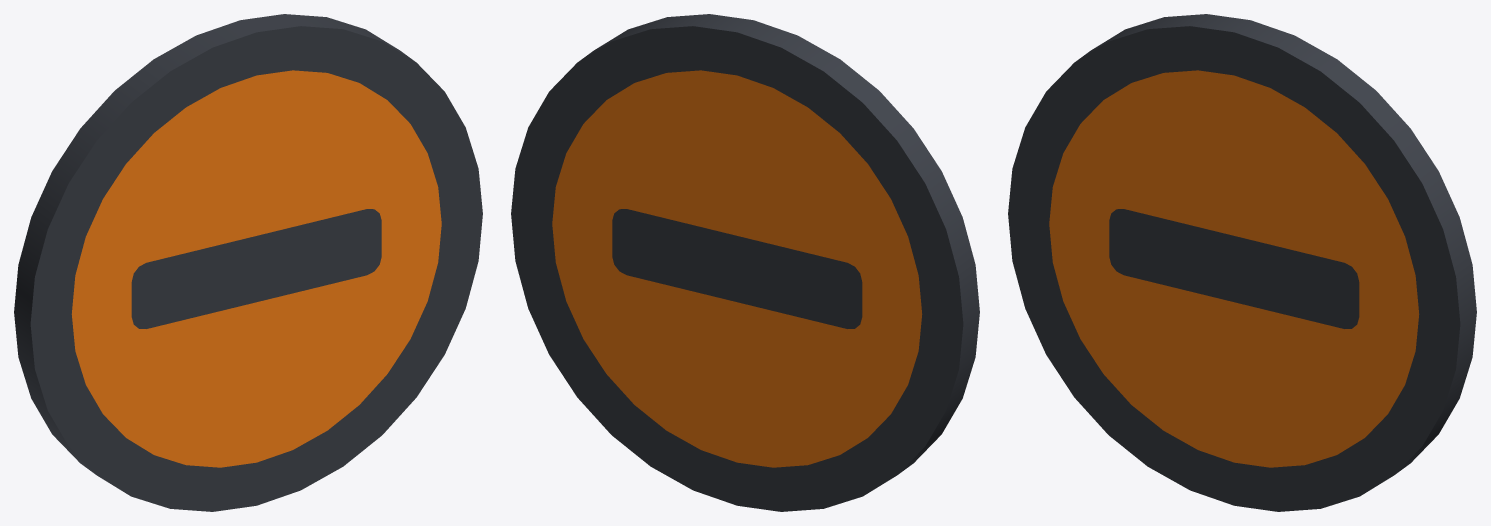
The model's file is Road Sign A.fbx.
3 renders of one model, left to right at view 1: azimuth 30°, elevation 25°; view 2: azimuth 150°, elevation 25°; view 3: azimuth 330°, elevation 25°, orthographic.
Parts seen in each view (by area): view 1: Road Sign; view 2: Road Sign; view 3: Road Sign.
Boxes of the visible parts, box(x1,y1,x2,y2) form: Road Sign: box(14, 14, 482, 511); Road Sign: box(511, 14, 979, 511); Road Sign: box(1008, 14, 1476, 511).
Size of the model in its own units: 229 by 229 by 14.54.
